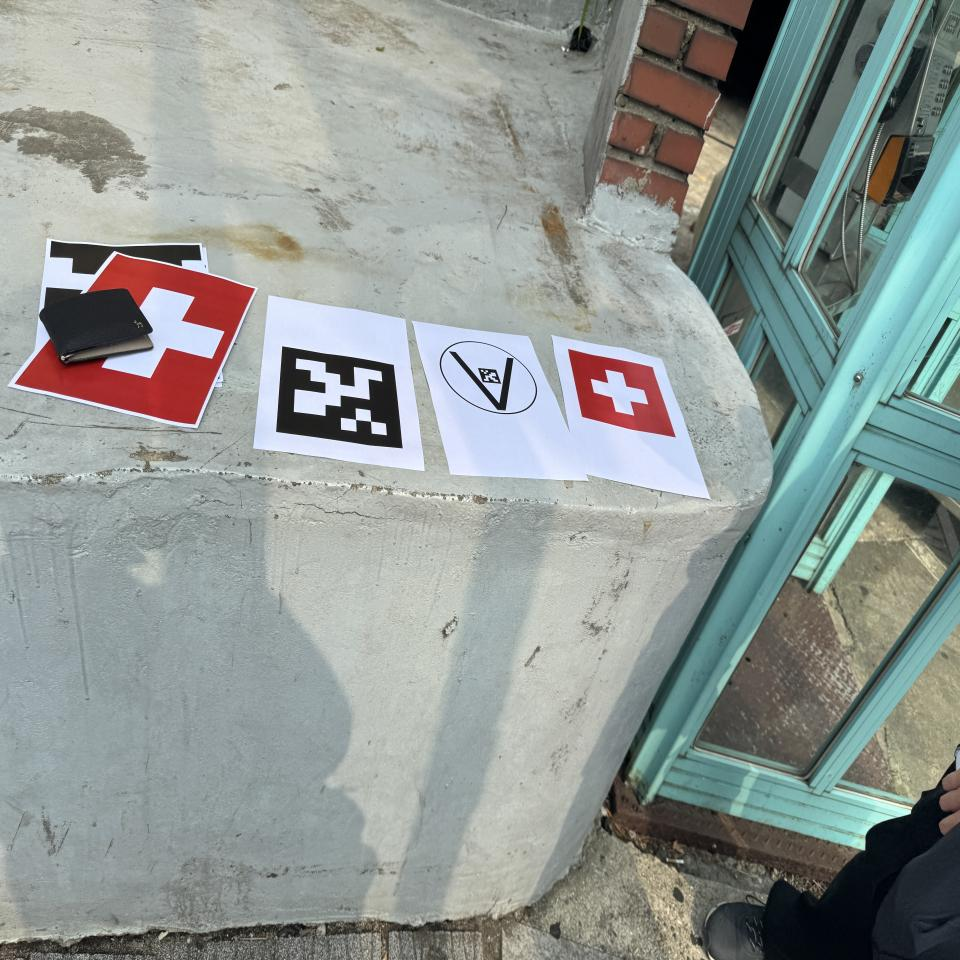ArUro mark: (271, 334, 408, 453)
rescue point: (566, 343, 681, 440)
vertiport: (425, 322, 554, 434)
